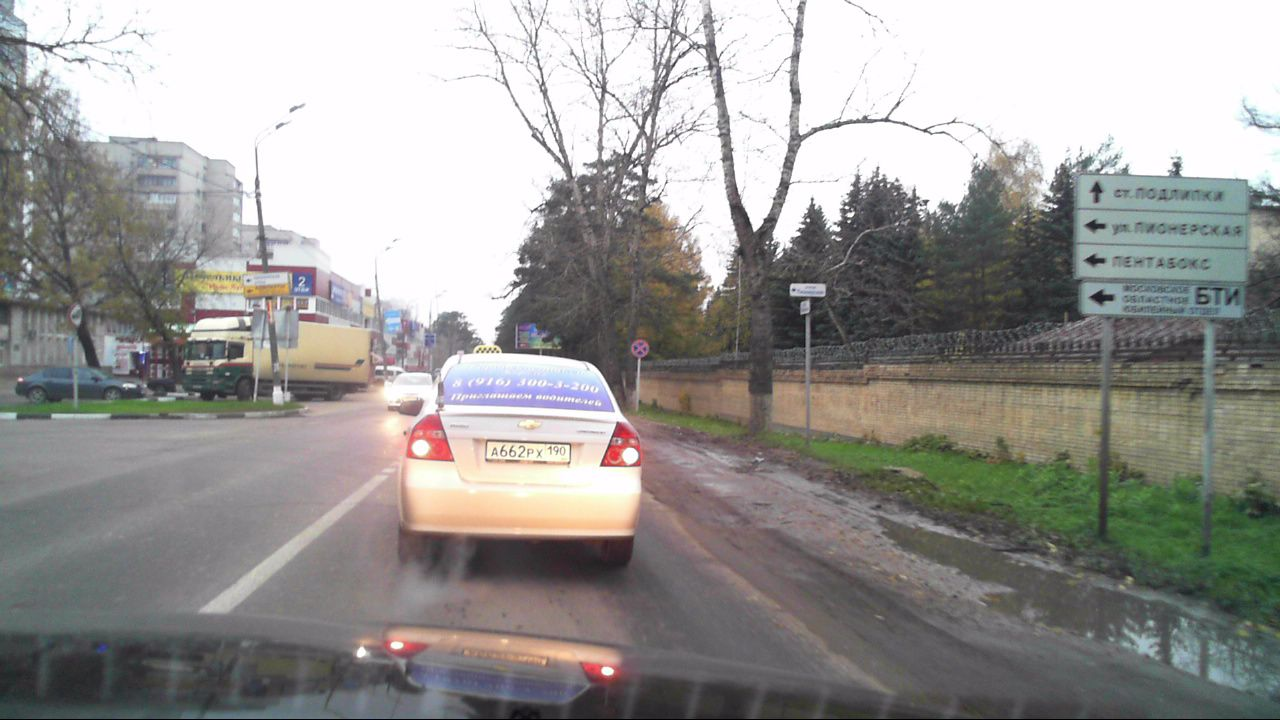No Parking: (630, 339, 648, 357)
